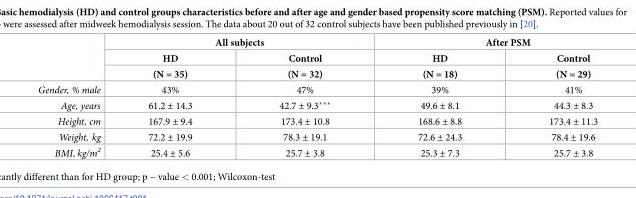table: (37, 37, 597, 159)
table column: (235, 37, 373, 159), (373, 37, 504, 159), (123, 37, 235, 159), (504, 37, 597, 159), (37, 37, 123, 159)
table column header: (37, 37, 597, 80)
table row: (37, 80, 597, 97), (37, 97, 597, 113), (37, 143, 597, 159), (37, 50, 597, 65), (37, 65, 597, 80), (37, 113, 597, 128), (37, 128, 597, 143), (37, 37, 597, 50)
table spanning cell: (235, 50, 373, 80), (373, 50, 504, 80), (123, 50, 235, 80), (123, 37, 373, 50), (373, 37, 597, 50), (504, 50, 597, 80)
